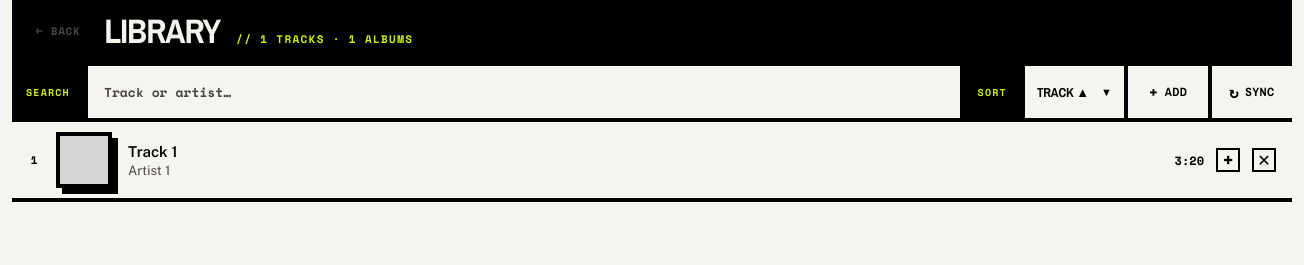
LibraryPageComponent › opens the sort options panel when the toggle is clicked
The image size is (1304, 265).
What coordinates should you click on to do the following:
click the button with class "sort-toggle"
I would click on:
 (1046, 92)
Its box is [964,66,1128,118].
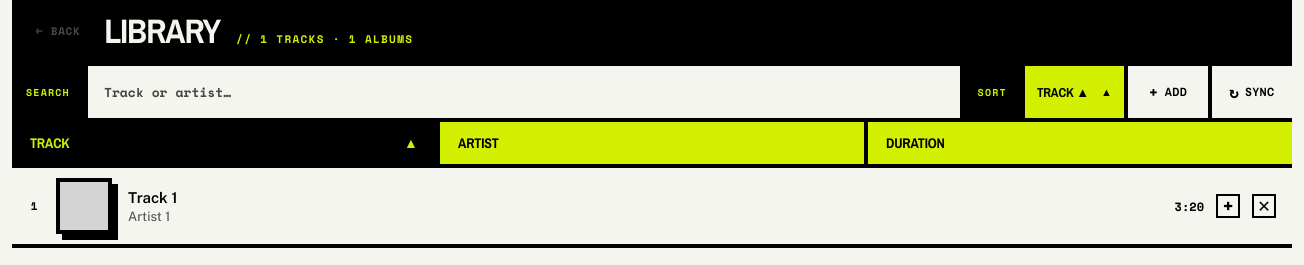
expect the list with class "sort-panel" is shown: met, box [12,122,1292,168]
expect the number of buttons with class "sort-option" is 3: met, box [12,122,440,164]; [440,122,868,164]; [868,122,1292,164]
